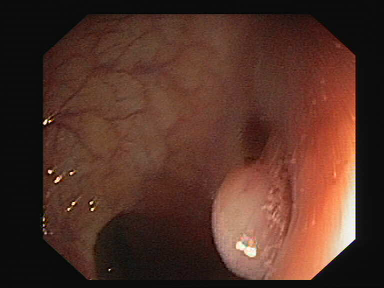polyp: (174, 144, 331, 275)
